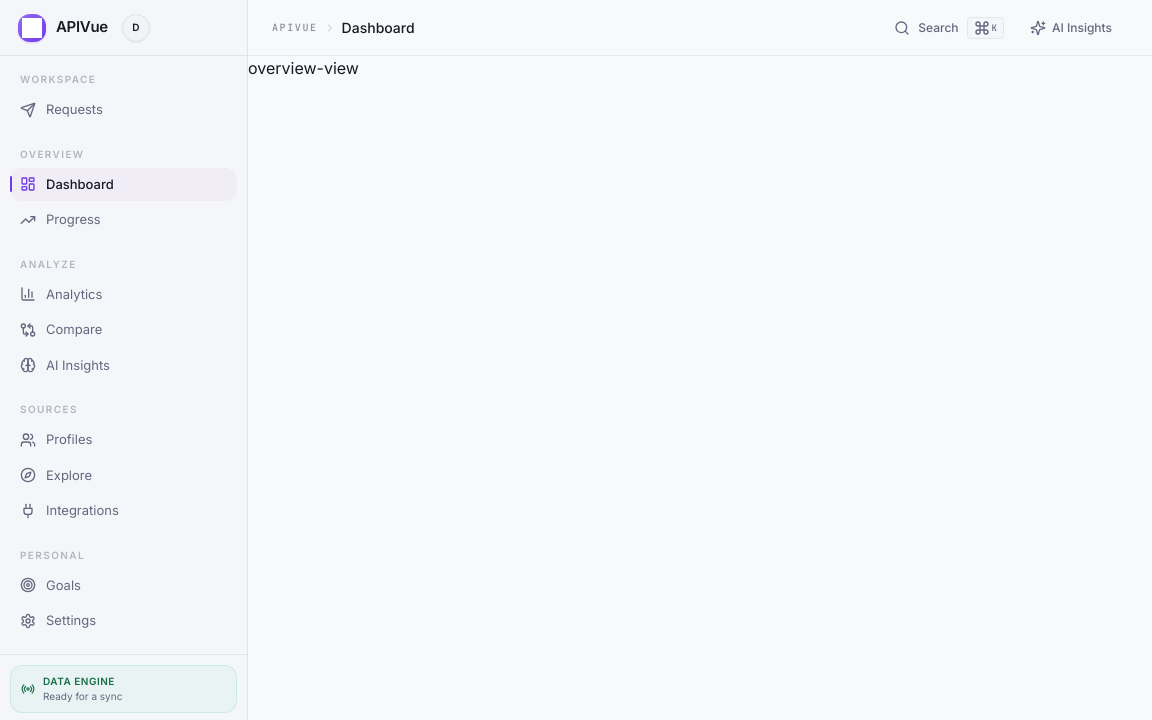
Test case: dashboard shell interactions › lists every dashboard destination and filters with a real search
Press k
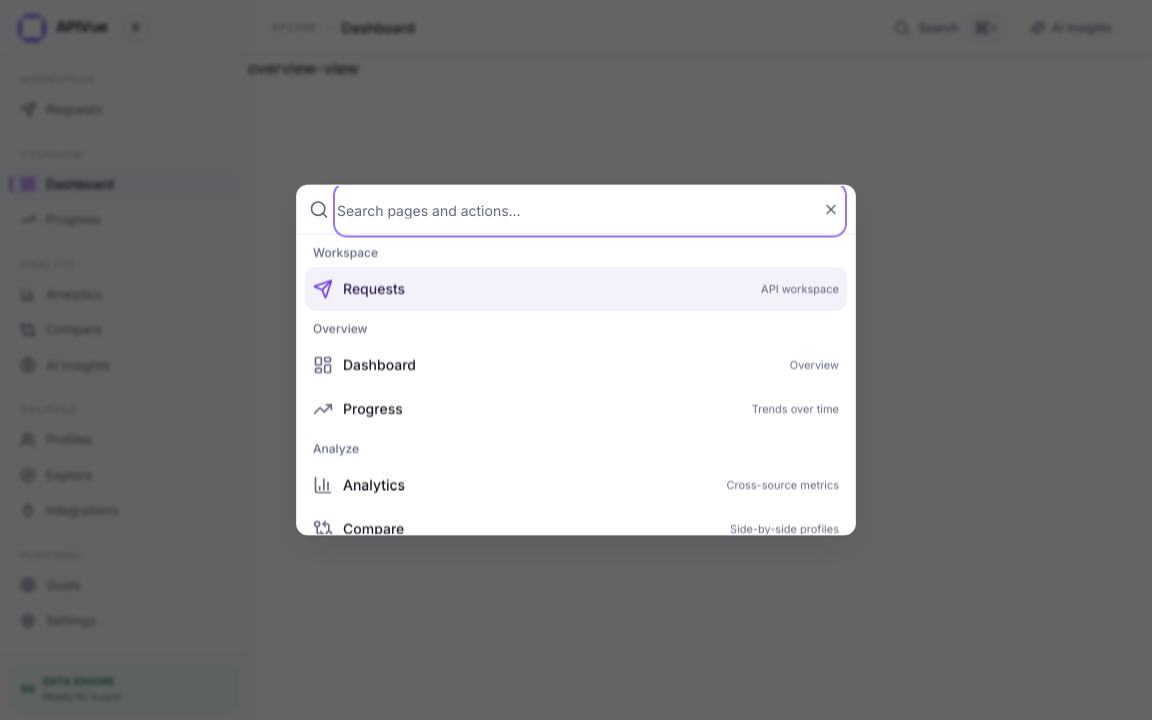
Now the dialog is shown, box [296,184,856,536]
Now the option "Requests API workspace" is shown, box [305,266,847,310]
Now the option "Dashboard Overview" is shown, box [313,354,839,374]
Type "goal" into the dropdown named "Command palette search" at (590, 210), box [337,186,843,234]
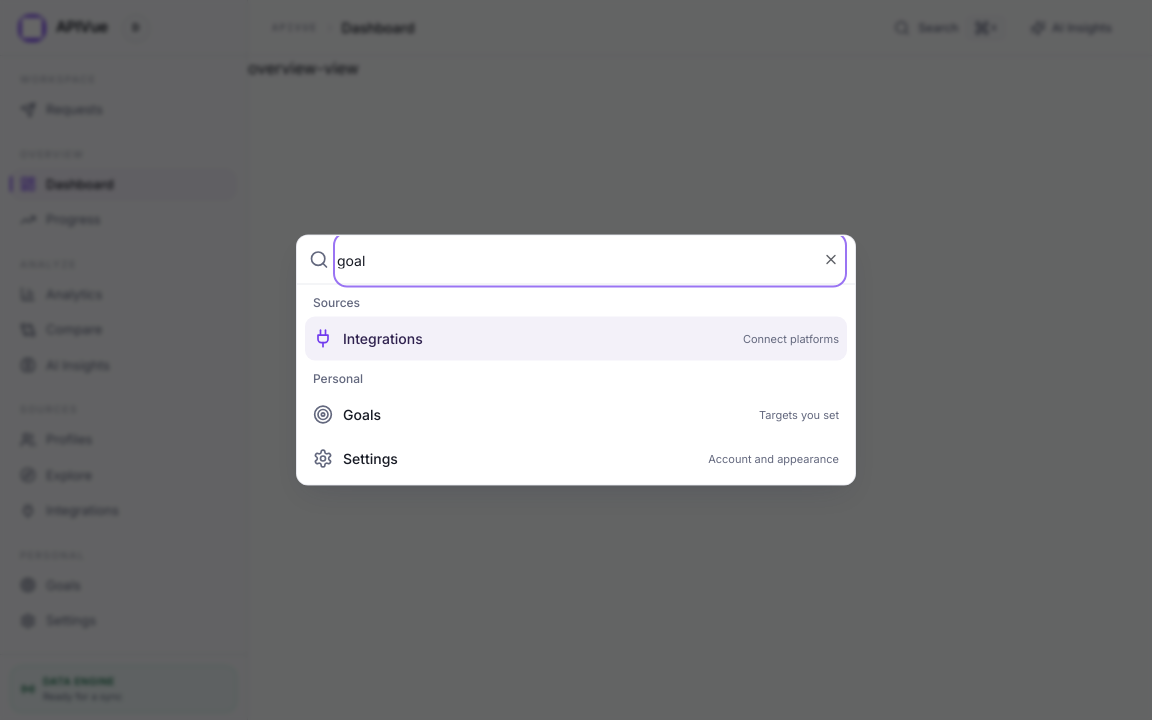
Now the option "Goals Targets you set" is shown, box [313,404,839,424]
